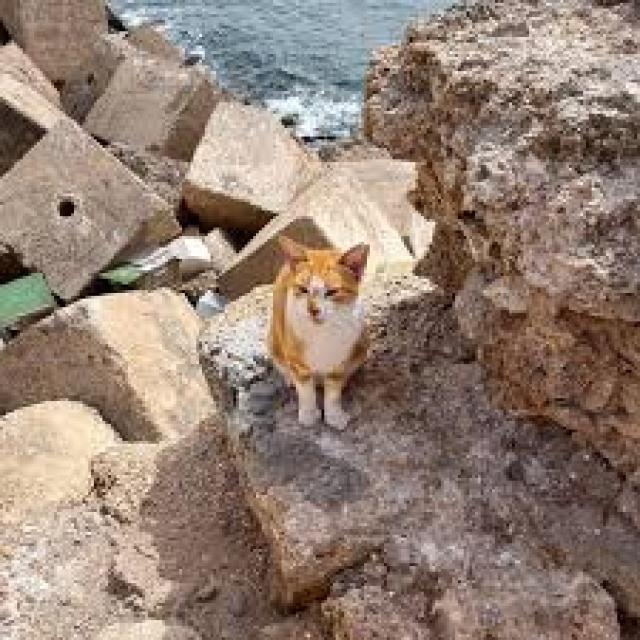cat: (272, 236, 369, 429)
